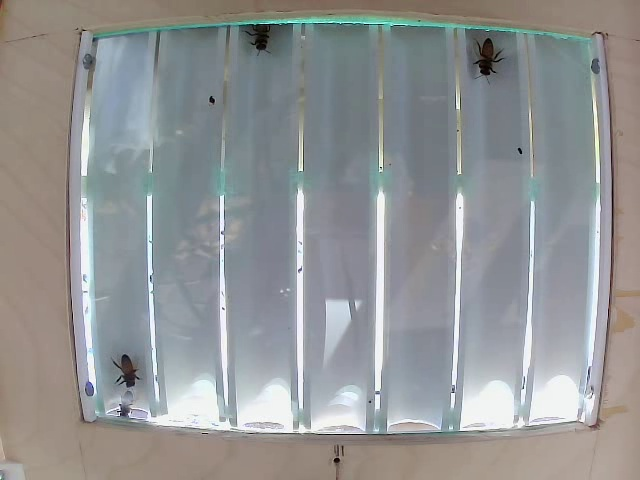bee: (464, 29, 500, 86), (241, 10, 282, 59), (109, 355, 149, 391)
